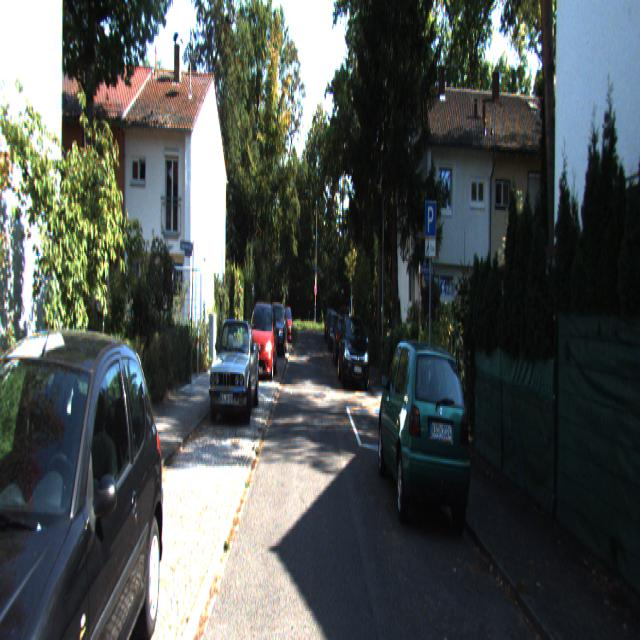Car: (0, 317, 170, 638), (378, 325, 477, 537), (208, 315, 258, 424), (337, 309, 369, 387), (247, 297, 276, 377), (266, 299, 286, 356)
